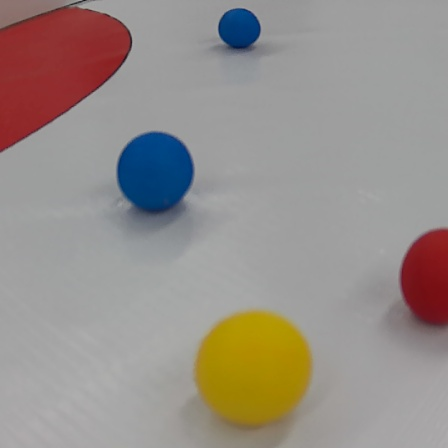blue: (114, 133, 199, 217), (217, 8, 261, 48)
red: (399, 226, 447, 326)
red_base: (2, 3, 134, 157)
yellow: (191, 308, 316, 429)
